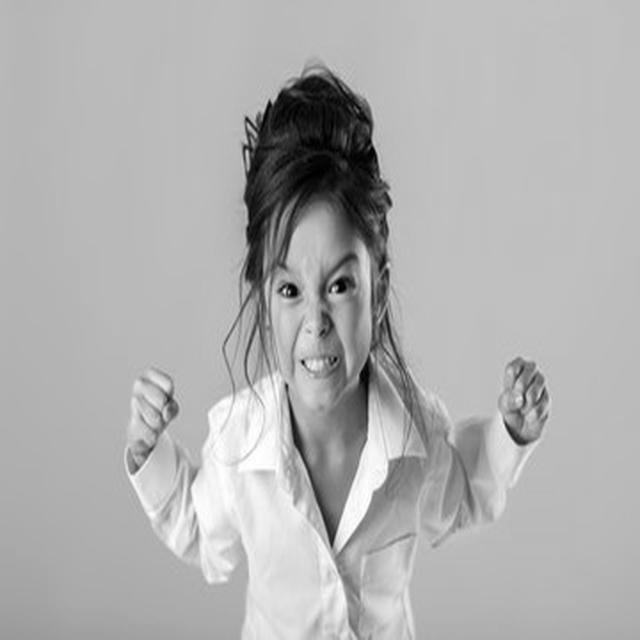Angry: (266, 200, 372, 406)
